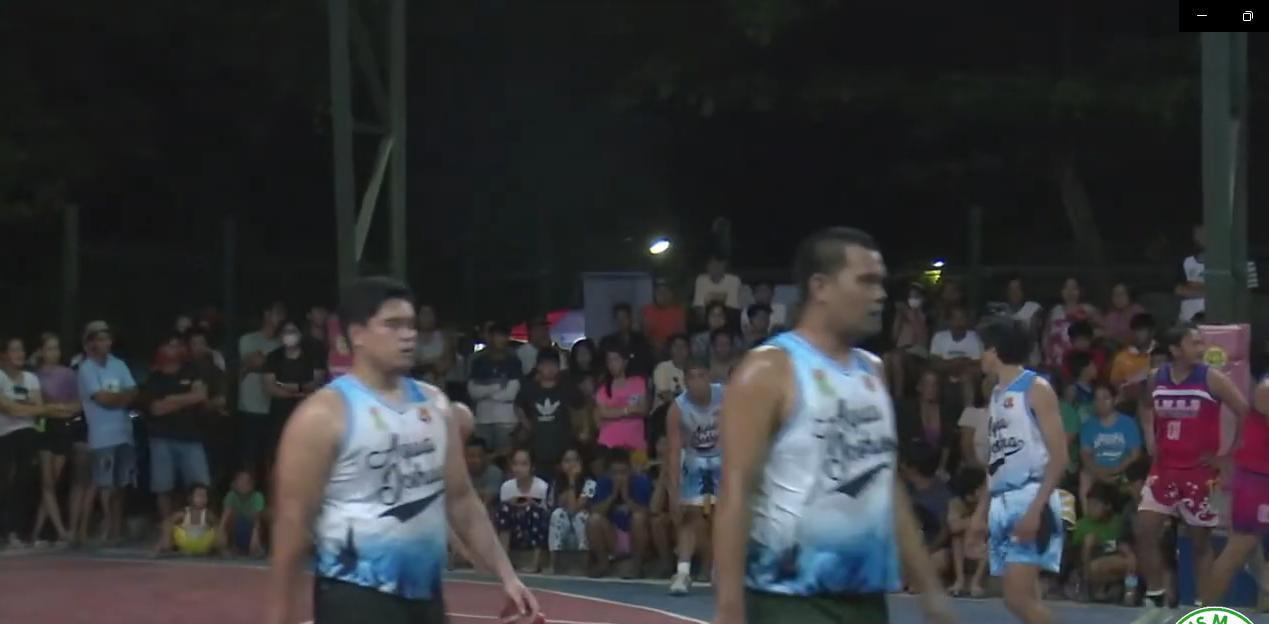human: (248, 257, 556, 624), (685, 208, 935, 624), (1113, 307, 1248, 624), (953, 303, 1086, 624)
